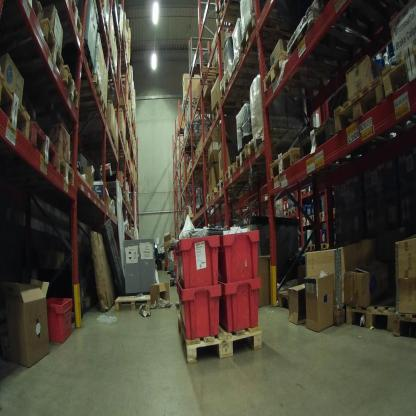pallet: (178, 297, 266, 366), (334, 70, 406, 149), (288, 14, 372, 67), (4, 16, 65, 77), (260, 48, 327, 100), (299, 112, 346, 171), (346, 292, 409, 336), (380, 40, 416, 113), (1, 63, 33, 142), (240, 16, 310, 52), (65, 72, 110, 121), (248, 123, 302, 163), (221, 71, 270, 111), (28, 117, 57, 173), (230, 53, 280, 84), (237, 145, 288, 172), (226, 161, 275, 187), (270, 144, 303, 182), (57, 5, 86, 44), (272, 283, 306, 316), (115, 290, 155, 318), (1, 1, 48, 24), (79, 132, 120, 158), (211, 99, 256, 122), (55, 151, 79, 192), (65, 61, 83, 114), (195, 66, 226, 94), (393, 306, 415, 344), (217, 4, 244, 32), (216, 178, 259, 195), (205, 192, 243, 206), (207, 186, 246, 196), (199, 92, 218, 111), (184, 131, 204, 147), (103, 40, 113, 69), (108, 63, 119, 87), (183, 94, 202, 107), (102, 17, 111, 42), (180, 144, 195, 156), (306, 214, 316, 228), (317, 210, 327, 221), (307, 243, 318, 253), (287, 205, 296, 217), (305, 184, 314, 196), (321, 240, 330, 251), (186, 171, 194, 183), (331, 207, 341, 216), (296, 188, 305, 197), (298, 216, 307, 225), (282, 210, 290, 218)
small_load_carrier: (173, 278, 222, 342), (215, 224, 267, 281), (220, 273, 264, 338), (177, 227, 223, 286), (49, 289, 78, 347)
